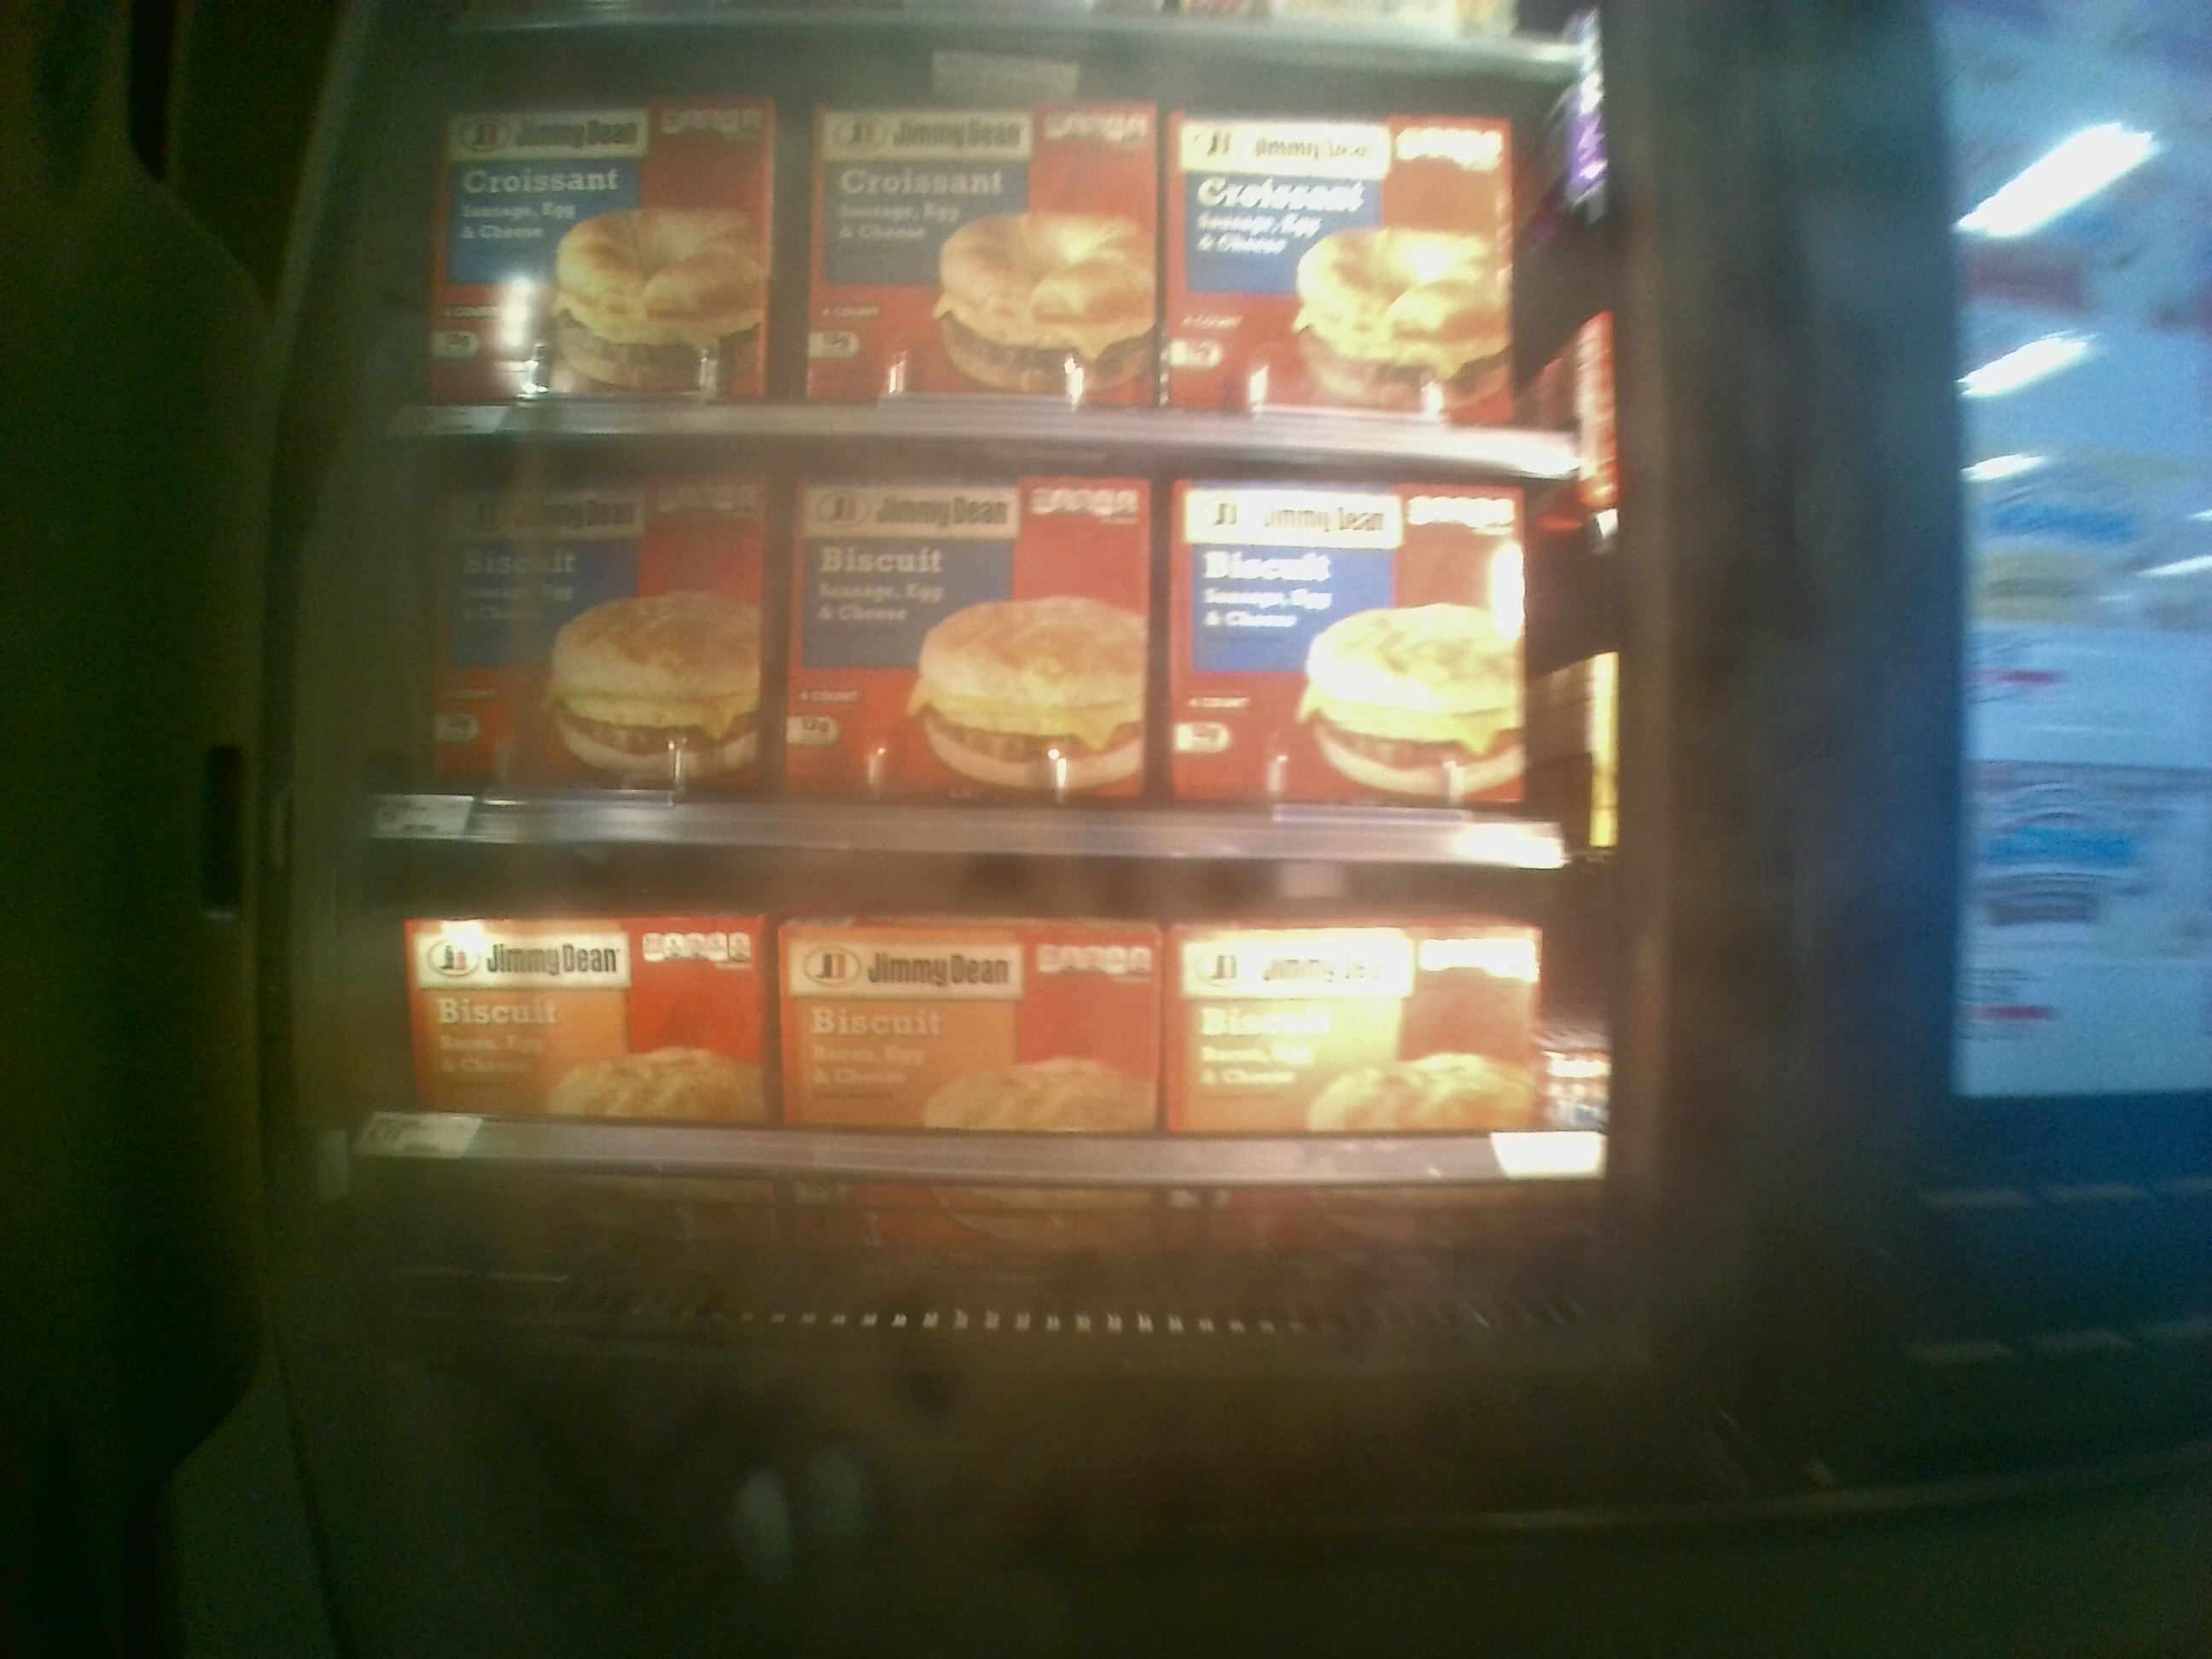shelf: (350, 840, 1625, 1347), (343, 436, 1606, 864)
